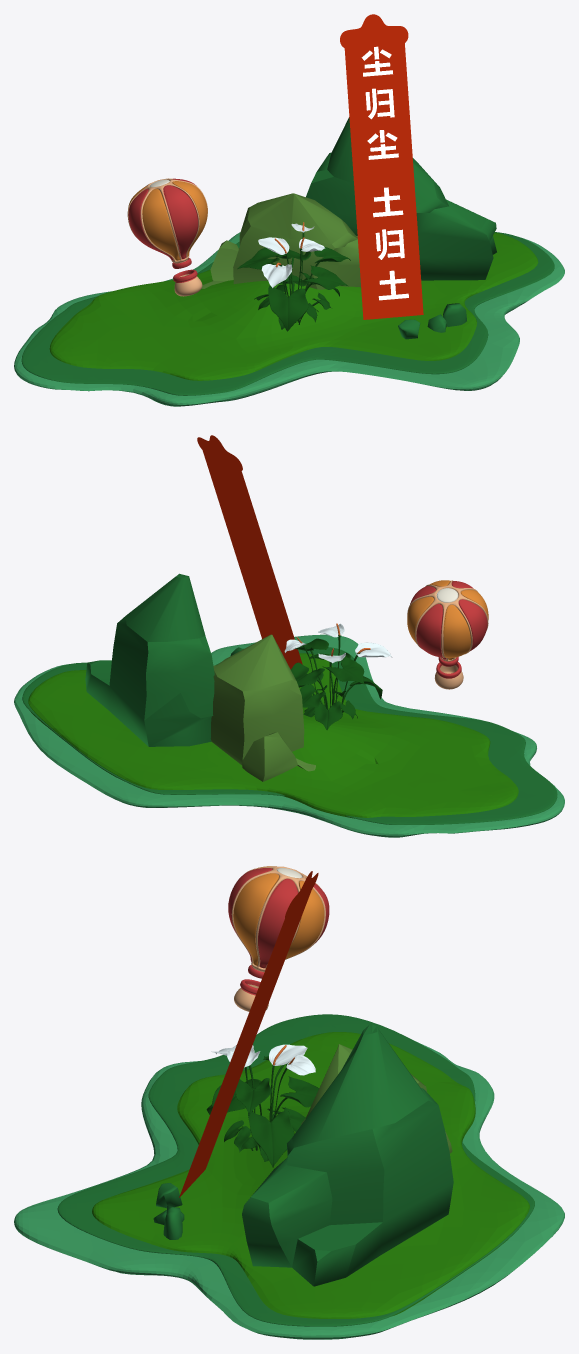
Rendered from island.glb.
3 views of the same model, one above another, from view 1: azimuth 30°, elevation 25°; view 2: azimuth 150°, elevation 25°; view 3: azimuth 270°, elevation 25° (orthographic). The views are drawn at different scales.
Parts seen in each view (by area): view 1: 面3, 贝塞尔曲线.003, 面2, 面1, lp2.001, lp2.002, Cylinder_004, Anthurium, 文本, 文本.001, Anthurium.003; view 2: 面3, lp2.001, 面1, lp2.002, 面2, 贝塞尔曲线.003, Cylinder_004, Anthurium; view 3: 面3, lp2.001, 面1, 面2, Cylinder_004, 贝塞尔曲线.003, Anthurium, lp2.002.
Part boxes in pixels (left/top/right/bottom): 面3: left=49, top=232, right=538, bottom=380; 贝塞尔曲线.003: left=340, top=14, right=423, bottom=319; 面2: left=21, top=232, right=554, bottom=395; 面1: left=14, top=232, right=564, bottom=406; lp2.001: left=306, top=117, right=496, bottom=280; lp2.002: left=201, top=193, right=360, bottom=289; Cylinder_004: left=127, top=178, right=207, bottom=296; Anthurium: left=237, top=232, right=350, bottom=331; 文本: left=361, top=46, right=398, bottom=159; 文本.001: left=373, top=187, right=408, bottom=300; Anthurium.003: left=261, top=264, right=292, bottom=288; 面3: left=28, top=653, right=518, bottom=818; lp2.001: left=85, top=573, right=214, bottom=746; 面1: left=14, top=634, right=564, bottom=837; lp2.002: left=210, top=634, right=315, bottom=781; 面2: left=22, top=647, right=557, bottom=824; 贝塞尔曲线.003: left=197, top=435, right=302, bottom=669; Cylinder_004: left=407, top=580, right=488, bottom=689; Anthurium: left=291, top=635, right=382, bottom=729; 面3: left=92, top=1032, right=529, bottom=1318; lp2.001: left=242, top=1024, right=453, bottom=1286; 面1: left=14, top=1040, right=564, bottom=1339; 面2: left=57, top=1014, right=534, bottom=1326; Cylinder_004: left=228, top=866, right=329, bottom=1011; 贝塞尔曲线.003: left=179, top=871, right=318, bottom=1197; Anthurium: left=206, top=1056, right=318, bottom=1167; lp2.002: left=301, top=1044, right=452, bottom=1153.
Size of the model in its own units: 22.94 by 12.16 by 16.64.
